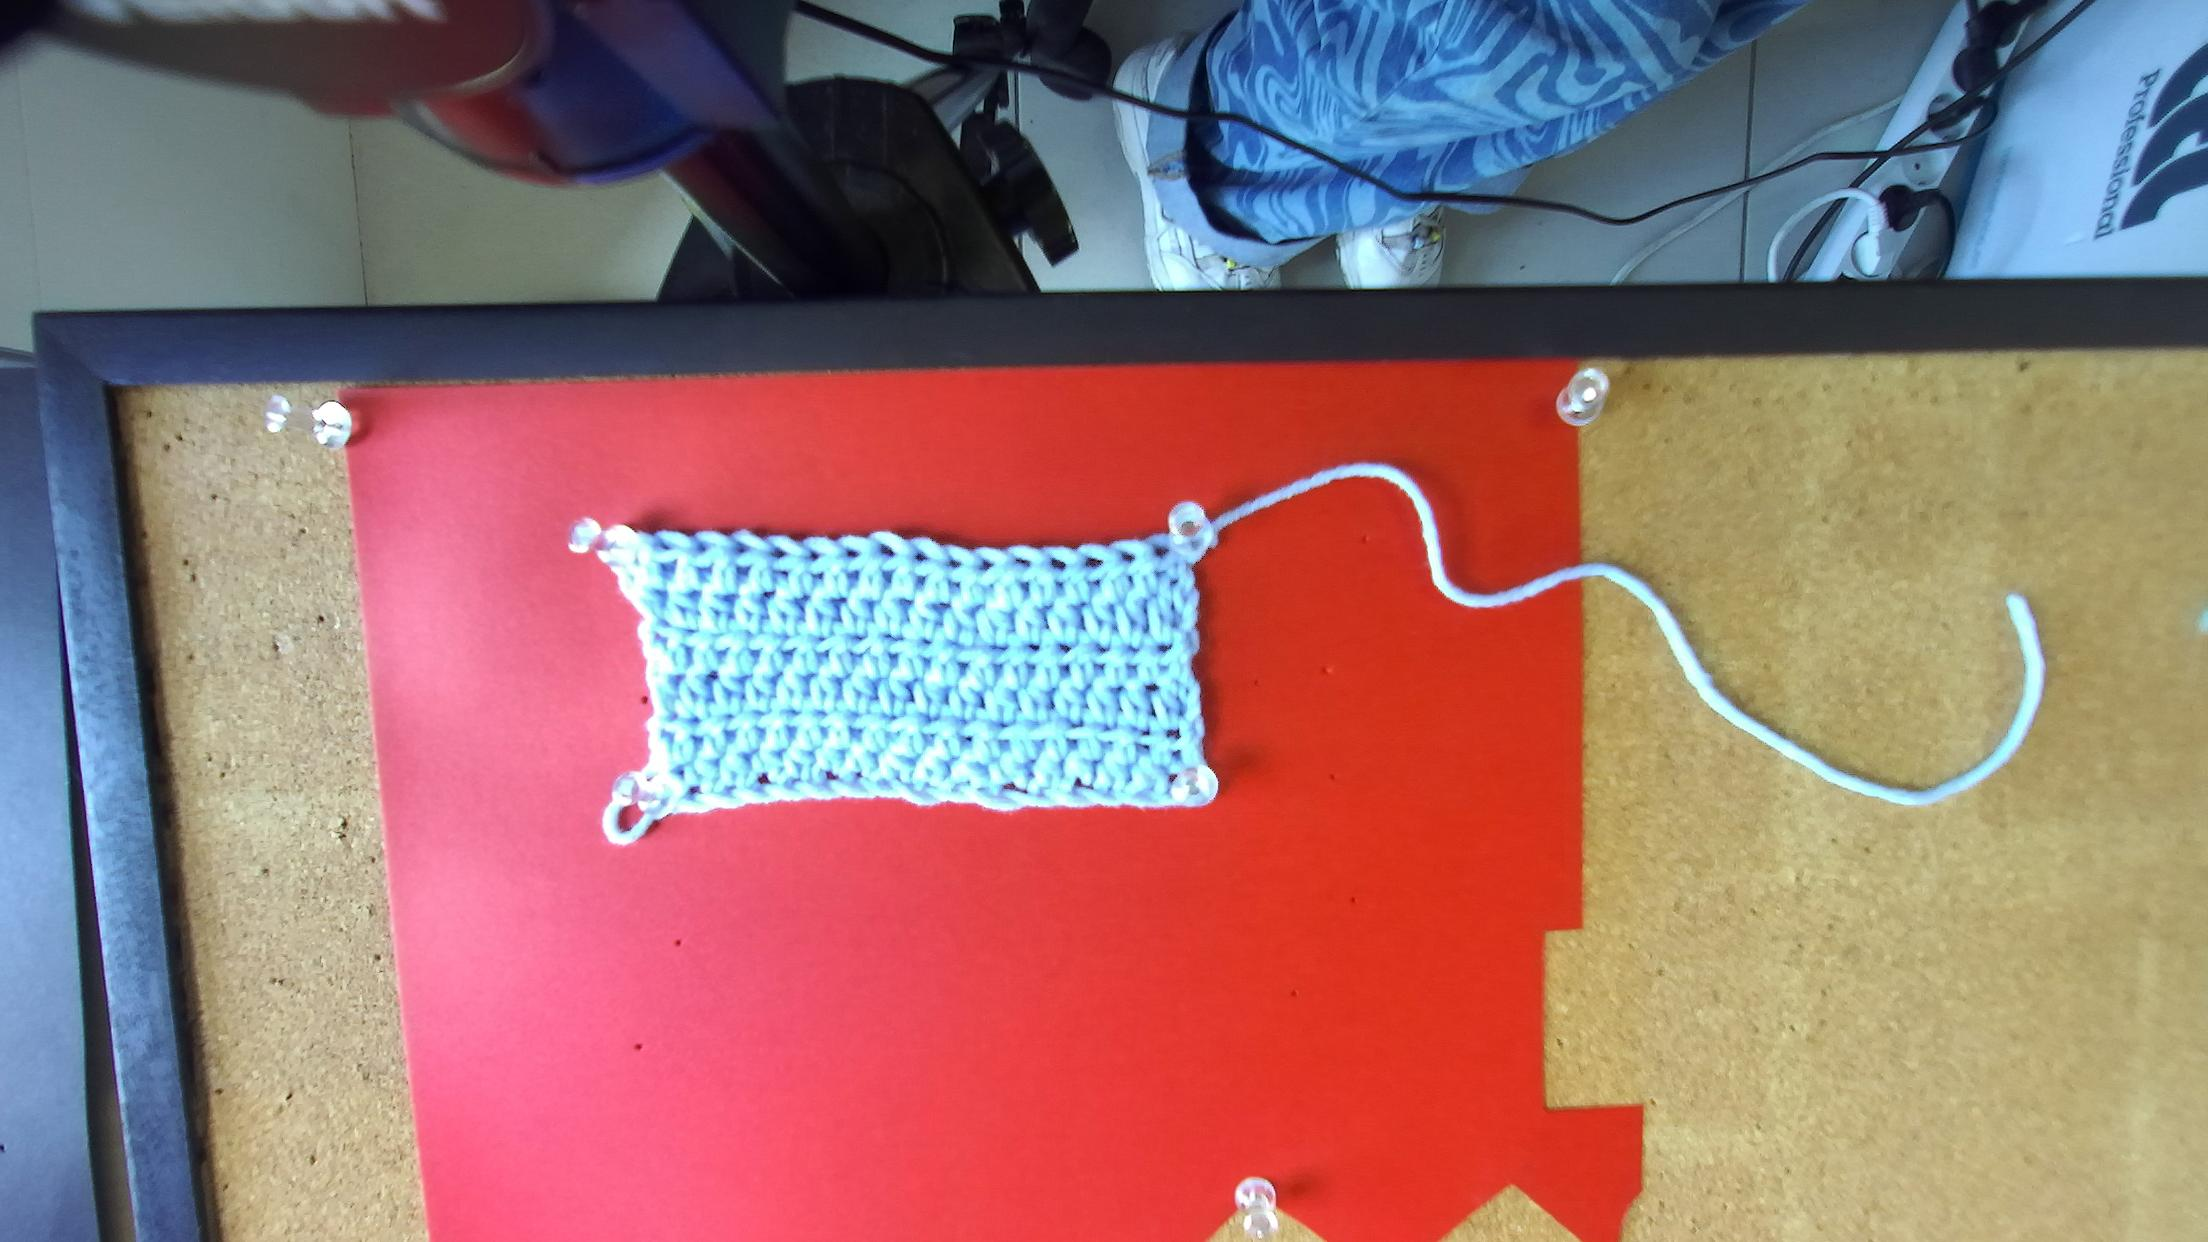hole: (652, 539, 679, 553), (733, 541, 757, 554), (1083, 557, 1107, 570), (769, 546, 790, 560), (693, 541, 717, 553), (1153, 544, 1172, 559), (805, 549, 825, 562), (977, 559, 997, 572), (878, 543, 896, 557), (1121, 551, 1138, 563), (1051, 559, 1068, 570), (945, 559, 963, 569), (913, 551, 929, 562), (845, 549, 861, 559), (1014, 557, 1033, 565)
swatch: (571, 508, 1225, 849)
